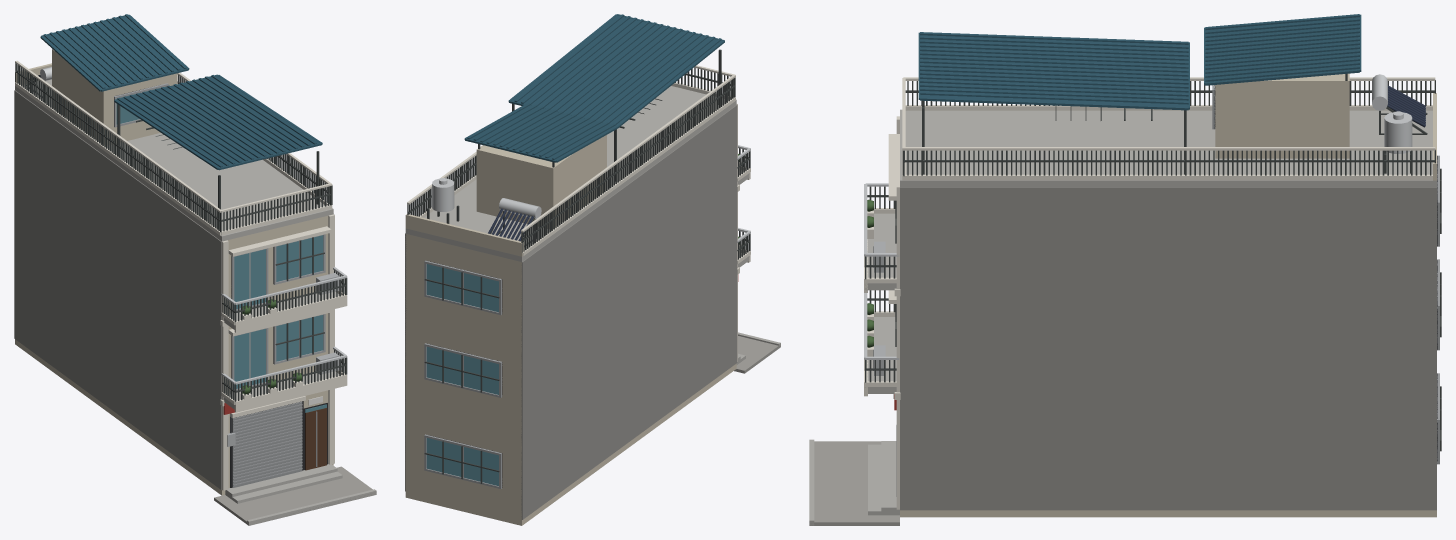
File: nha-pho-3-tang.glb
3 renders of one model, left to right at view 1: azimuth 30°, elevation 25°; view 2: azimuth 150°, elevation 25°; view 3: azimuth 270°, elevation 25°, orthographic. The views are drawn at different scales.
Parts seen in each view (by area): view 1: nha_pho_3_tang; view 2: nha_pho_3_tang; view 3: nha_pho_3_tang.
Part boxes in pixels (x1=…): nha_pho_3_tang: x1=14, y1=14, x2=376, y2=525; nha_pho_3_tang: x1=405, y1=14, x2=780, y2=525; nha_pho_3_tang: x1=809, y1=14, x2=1441, y2=525.
Bounding box in the file's own units: 5.7 × 14.3 × 18.84.
